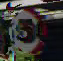Speed limit: (8, 4, 56, 54)
